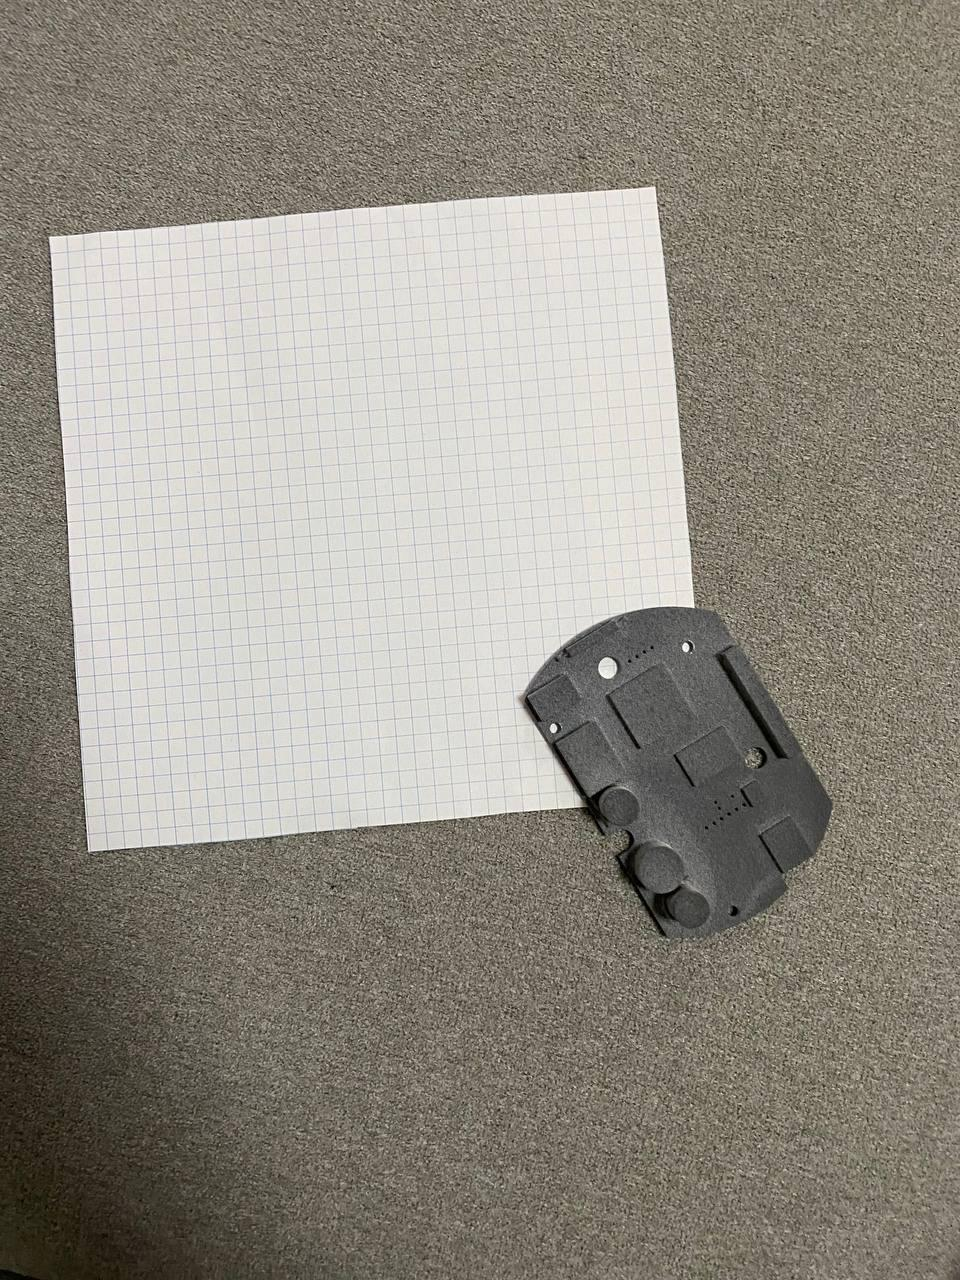grid: (32, 177, 728, 869)
